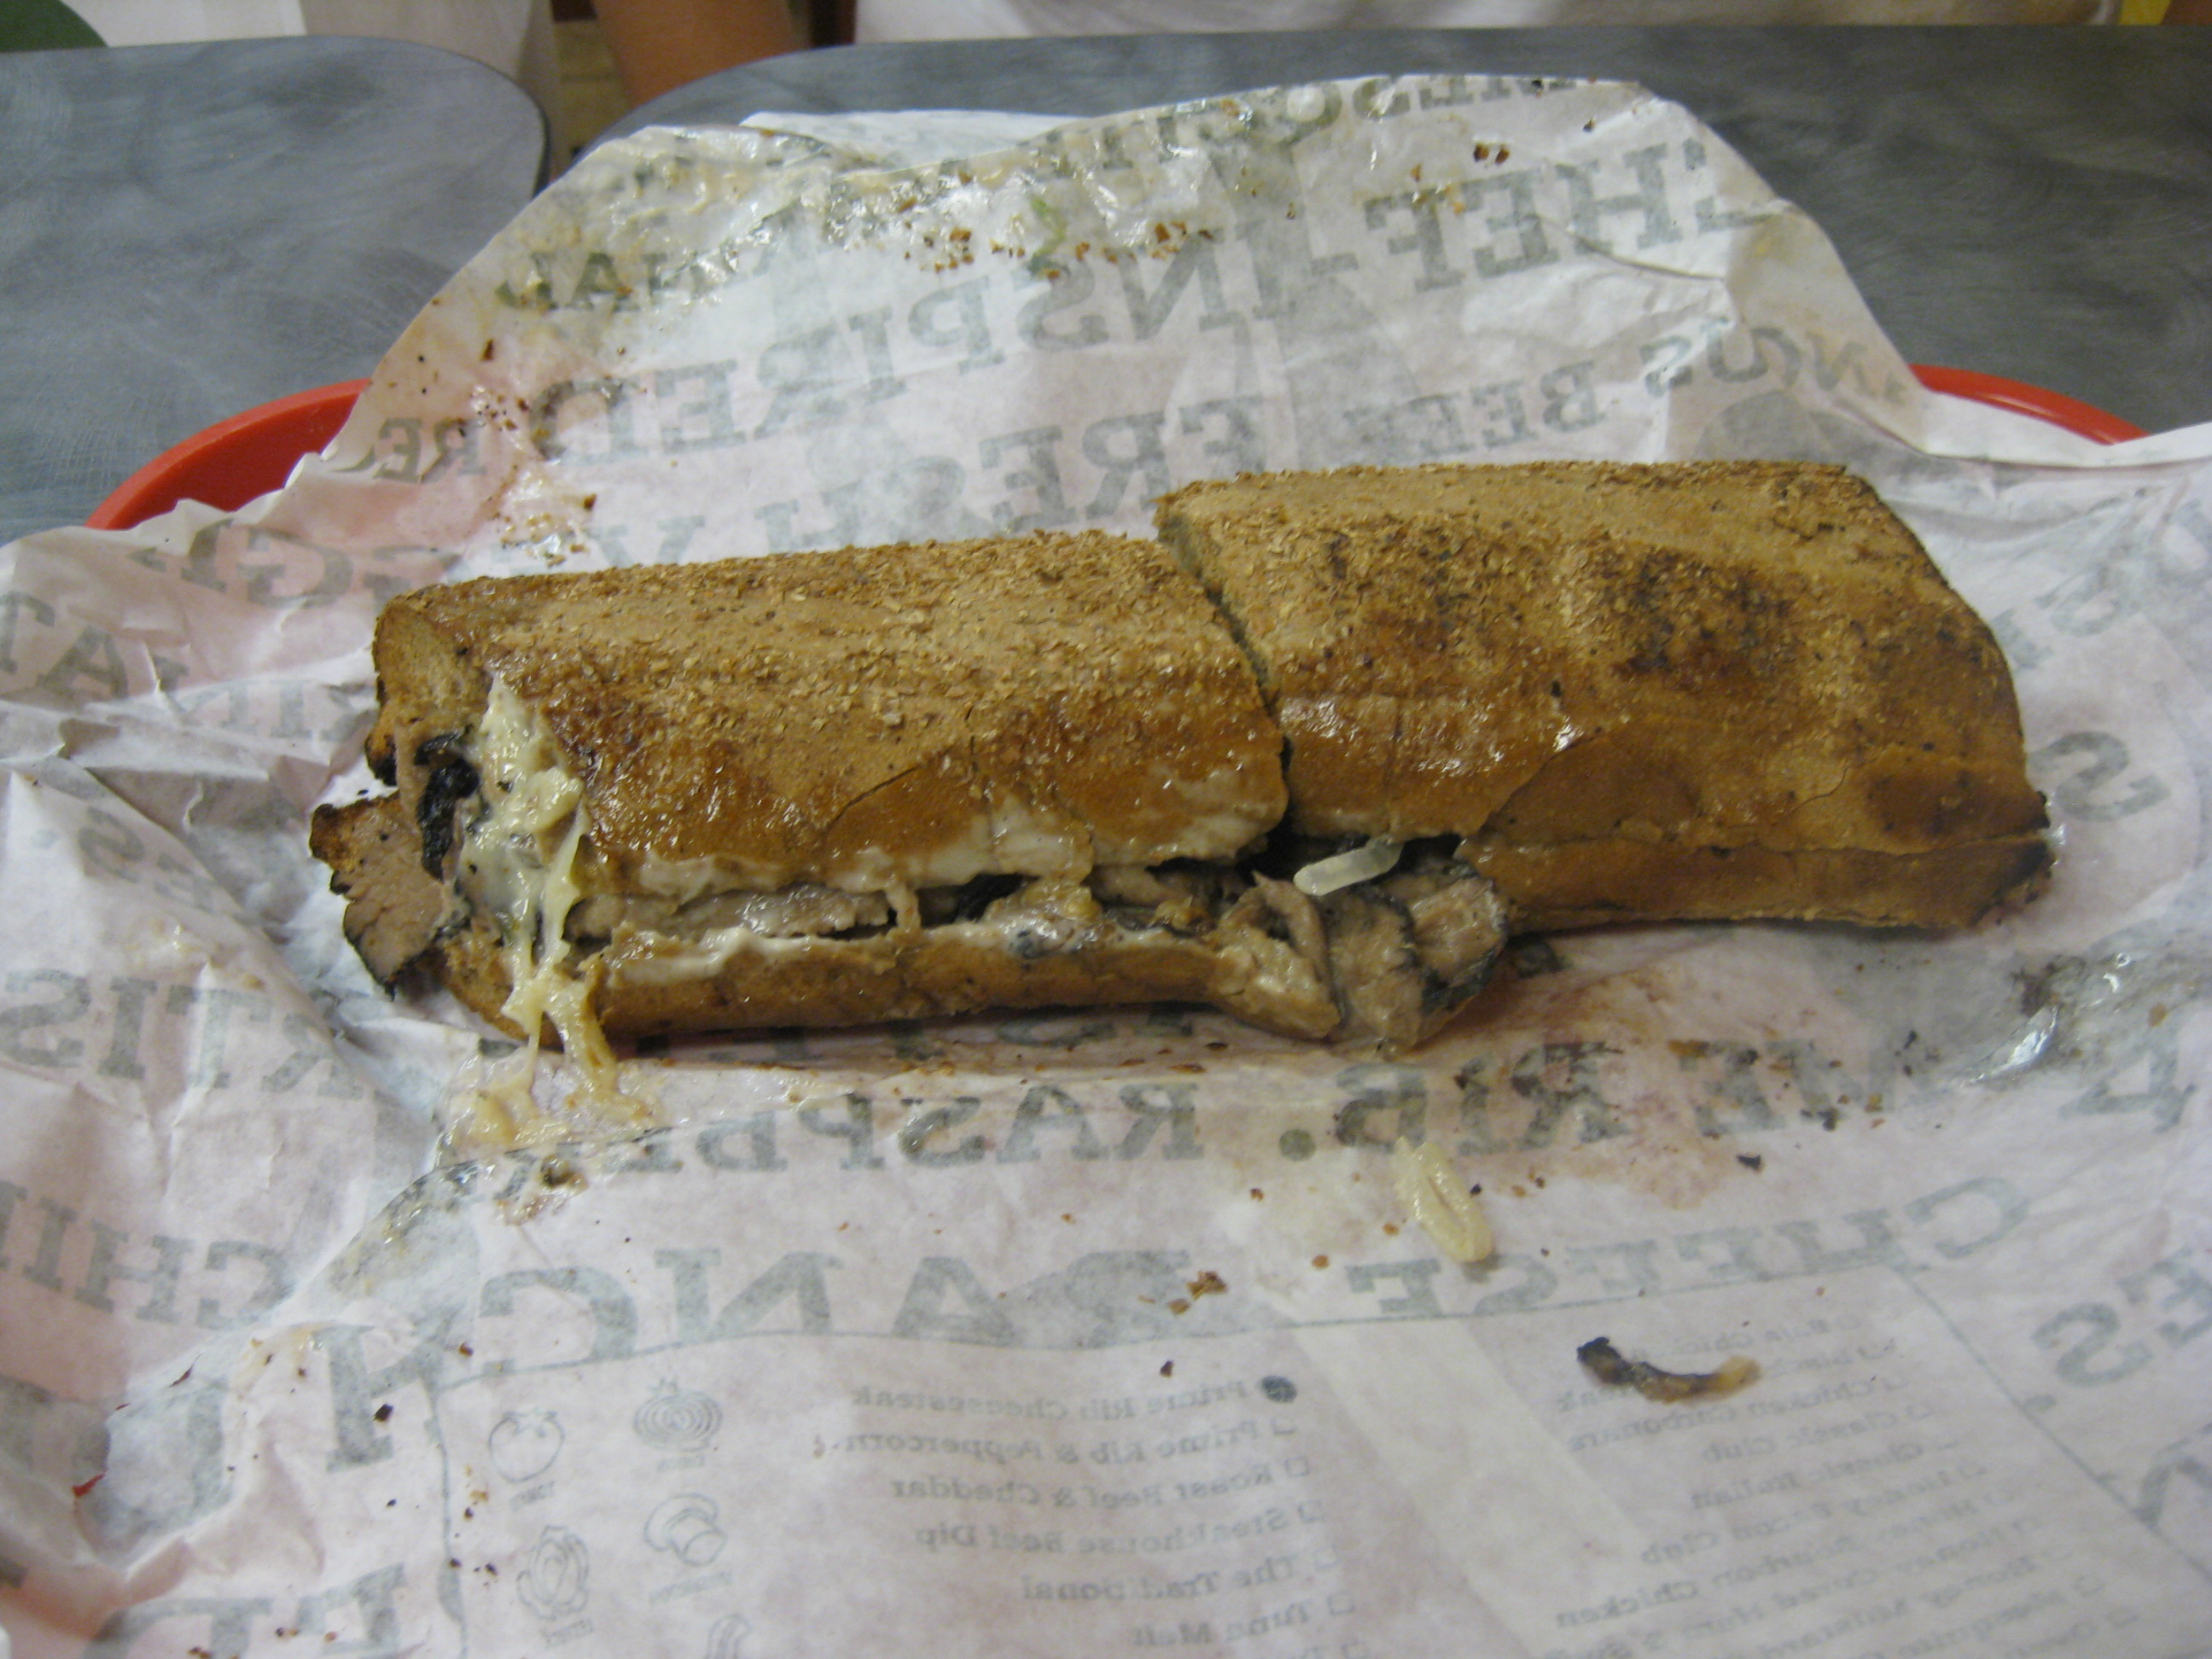sub: (292, 451, 2144, 1066)
